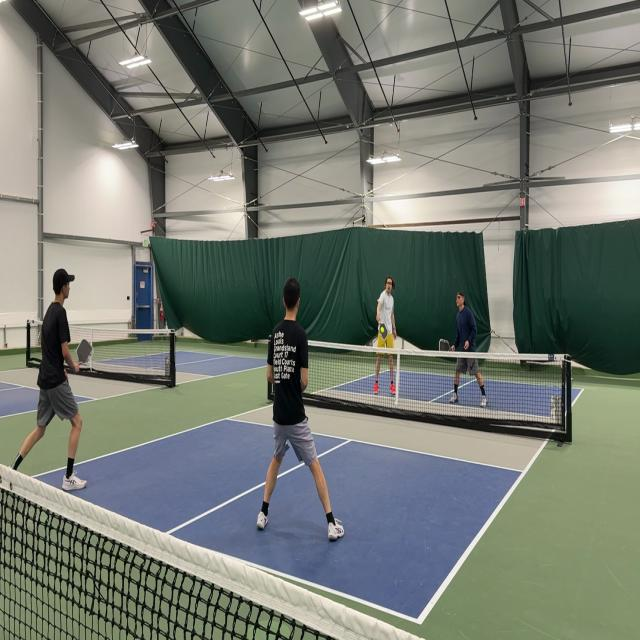ball: (380, 326, 385, 334)
